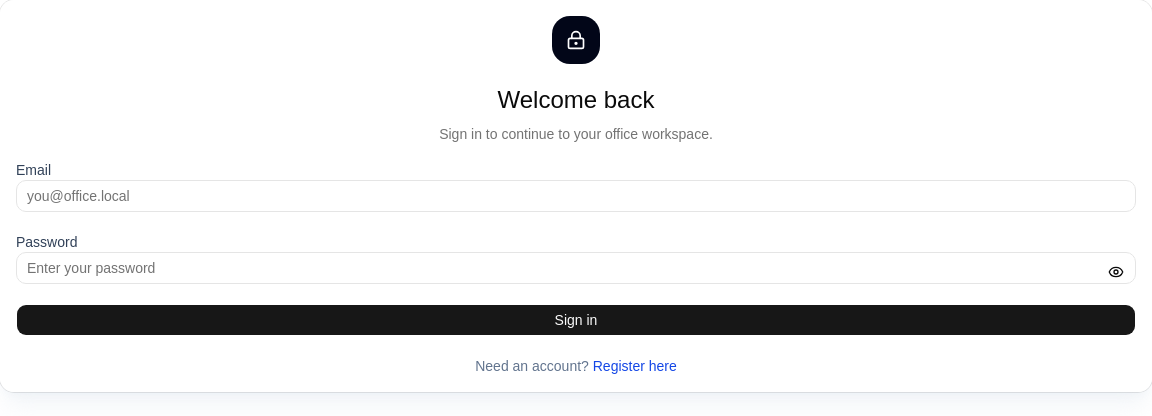
Test: authentication UI and session state › toggles password visibility without storing the password
Type "not-a-real-password" into the password field labelled "Password" at (576, 268), box top-left (16, 252), bottom-right (1136, 284)
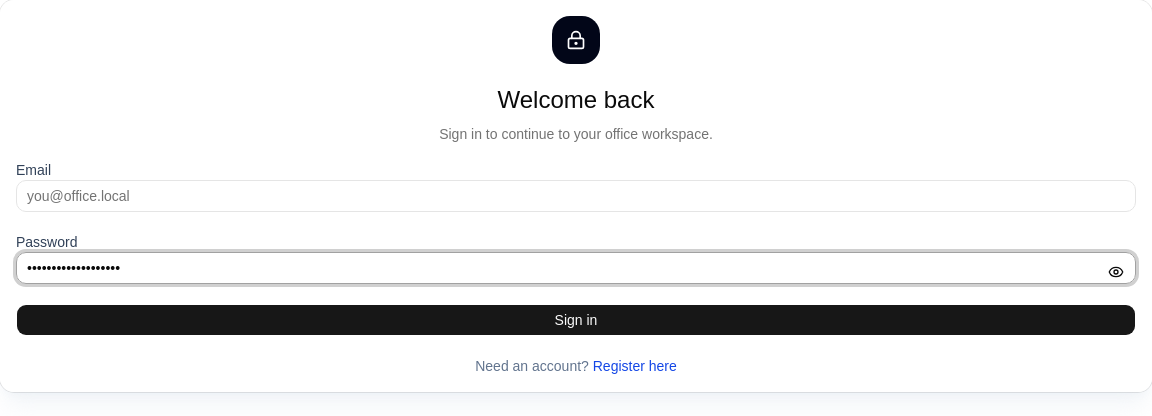
Click the button named "Show password" at (1116, 272), box top-left (1100, 256), bottom-right (1132, 288)
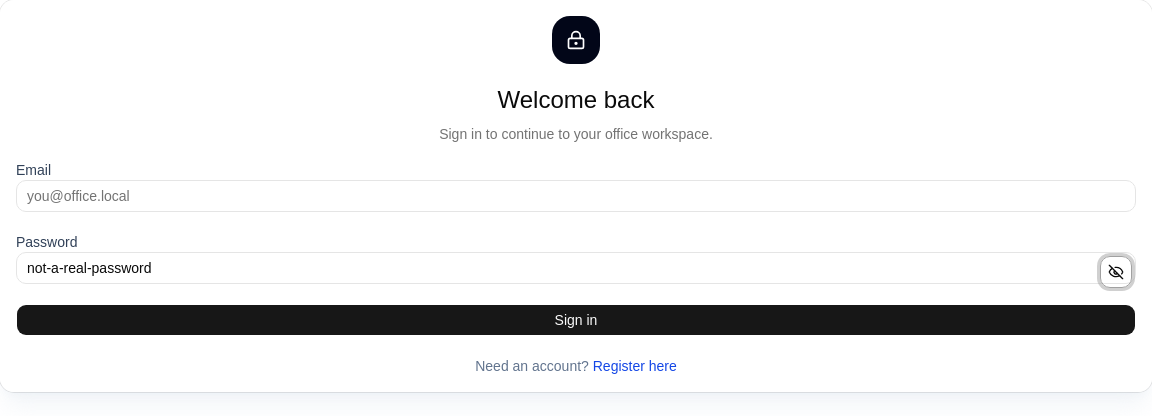
Expected: the field labelled "Password" shows its text, top-left (16, 252), bottom-right (1136, 284)
